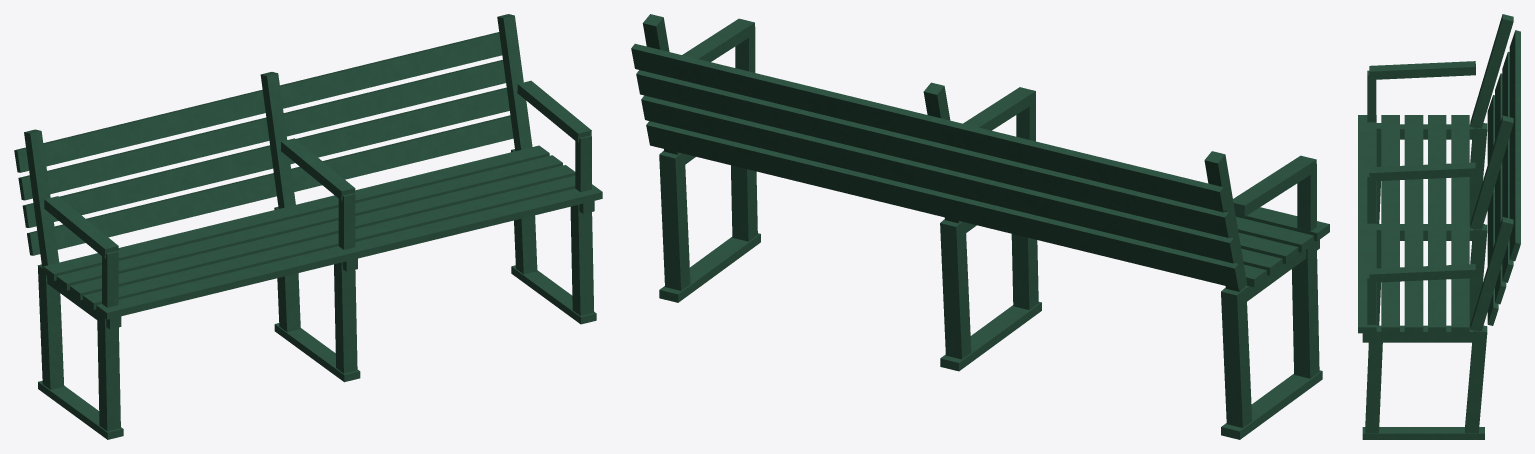
The model's file is bench_bus.gltf.
3 renders of one model, left to right at view 1: azimuth 30°, elevation 25°; view 2: azimuth 150°, elevation 25°; view 3: azimuth 270°, elevation 25°, orthographic. The views are drawn at different scales.
Visible parts, largest first — view 1: bench_bus; view 2: bench_bus; view 3: bench_bus.
Boxes of the visible parts, x1=… form: bench_bus: x1=14, y1=14, x2=602, y2=439; bench_bus: x1=631, y1=14, x2=1329, y2=439; bench_bus: x1=1358, y1=14, x2=1520, y2=439.
Bounding box in the file's own units: 2.18 × 1.04 × 0.7076.
Materials: 1 (1 with a texture image).
